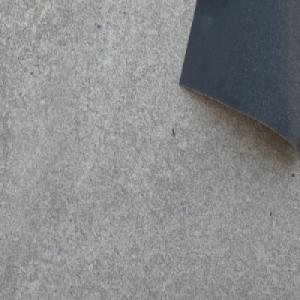PaintChip: (177, 0, 300, 161)
